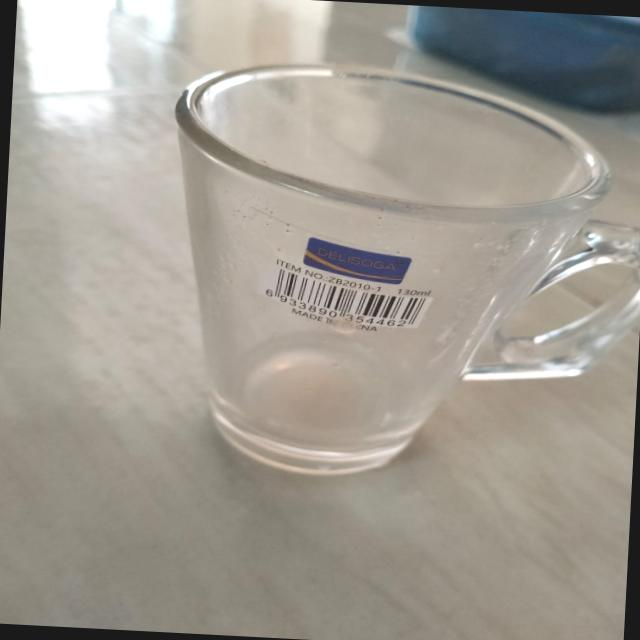glass-VX4N: (158, 50, 640, 492)
